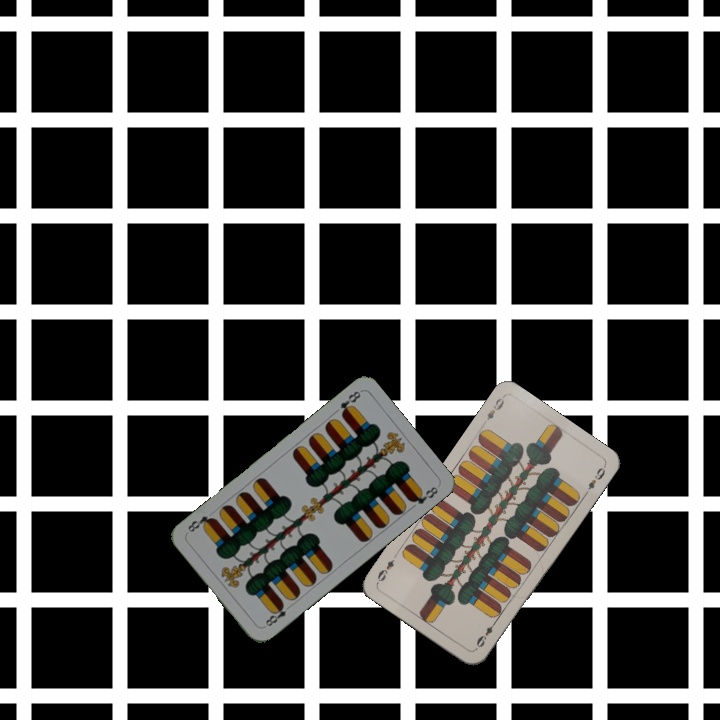E8: (260, 599, 294, 630), (336, 387, 363, 419)
E9: (479, 393, 507, 428), (472, 616, 499, 652)
